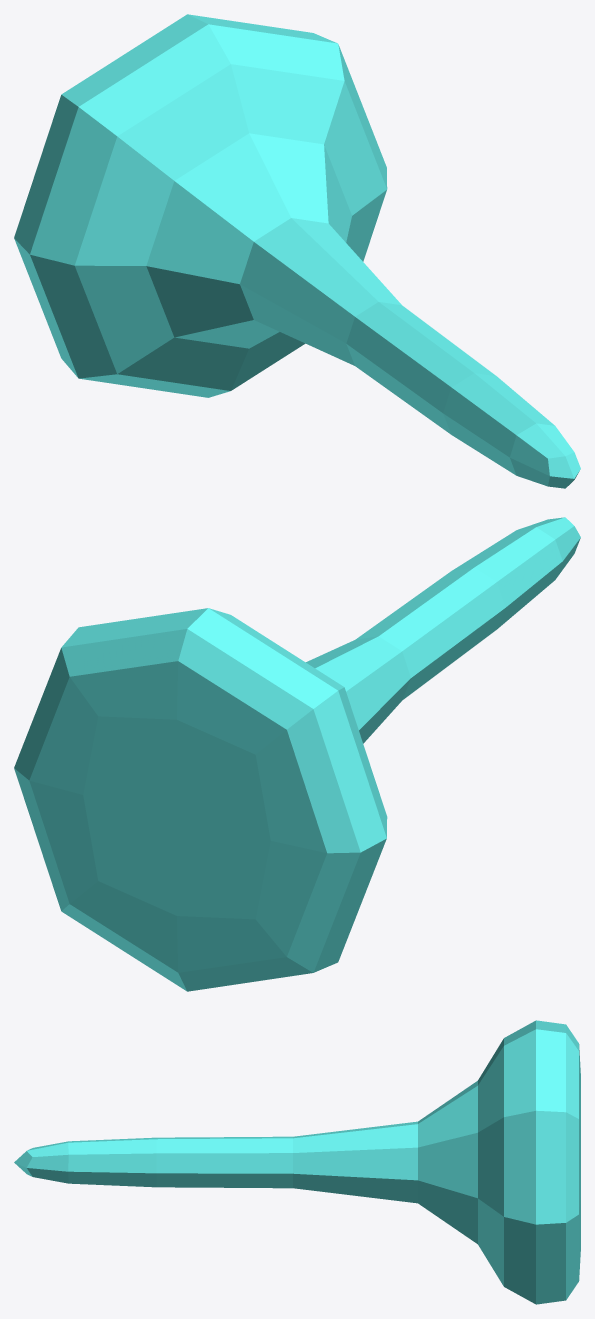
File: nail.glb
3 views of the same model, one above another, from view 1: azimuth 30°, elevation 25°; view 2: azimuth 150°, elevation 25°; view 3: azimuth 270°, elevation 25° (orthographic). The views are drawn at different scales.
Visible parts, largest first — view 1: nail on wall; view 2: nail on wall; view 3: nail on wall.
Boxes of the visible parts, <box> form: nail on wall: <box>14,14,580,488</box>; nail on wall: <box>14,517,580,991</box>; nail on wall: <box>14,1020,580,1304</box>.
Size of the model in its own units: 0.0183 by 0.0183 by 0.0352.
